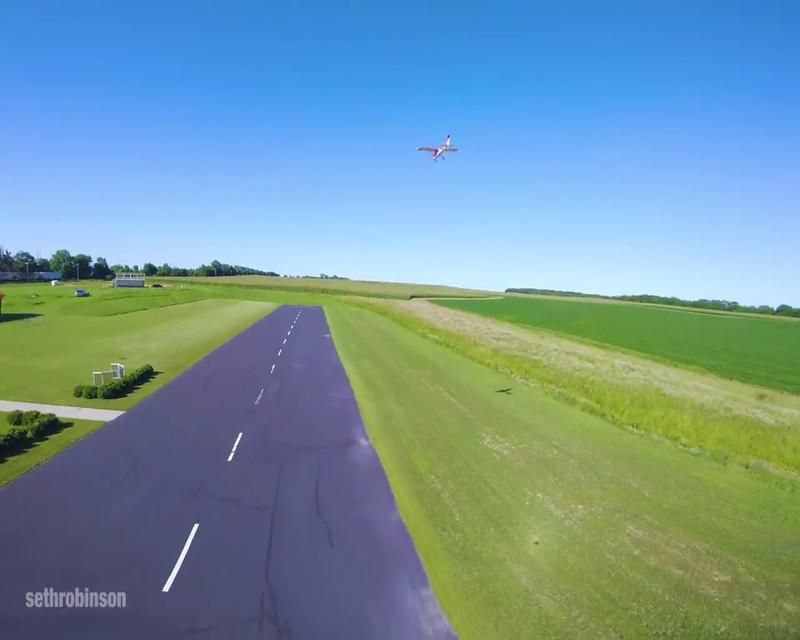UAV: (416, 134, 458, 162)
